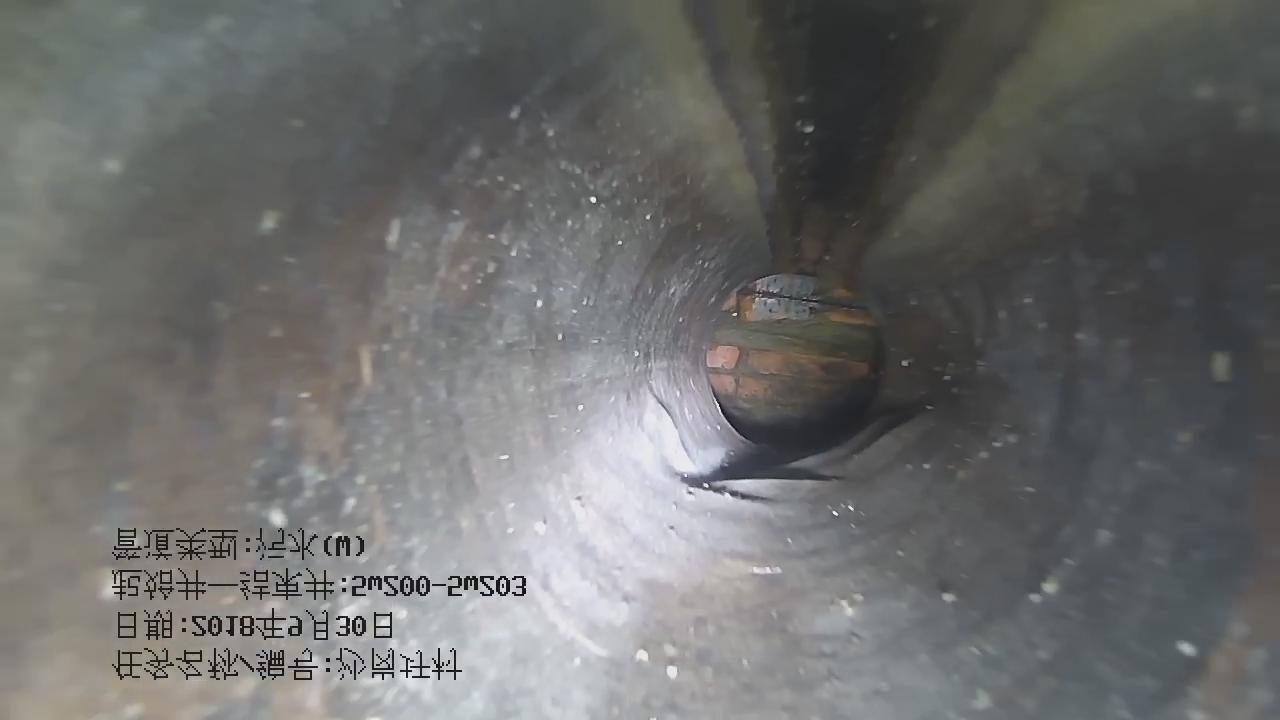BX: (636, 397, 955, 521)
CQBG: (705, 274, 883, 447)
